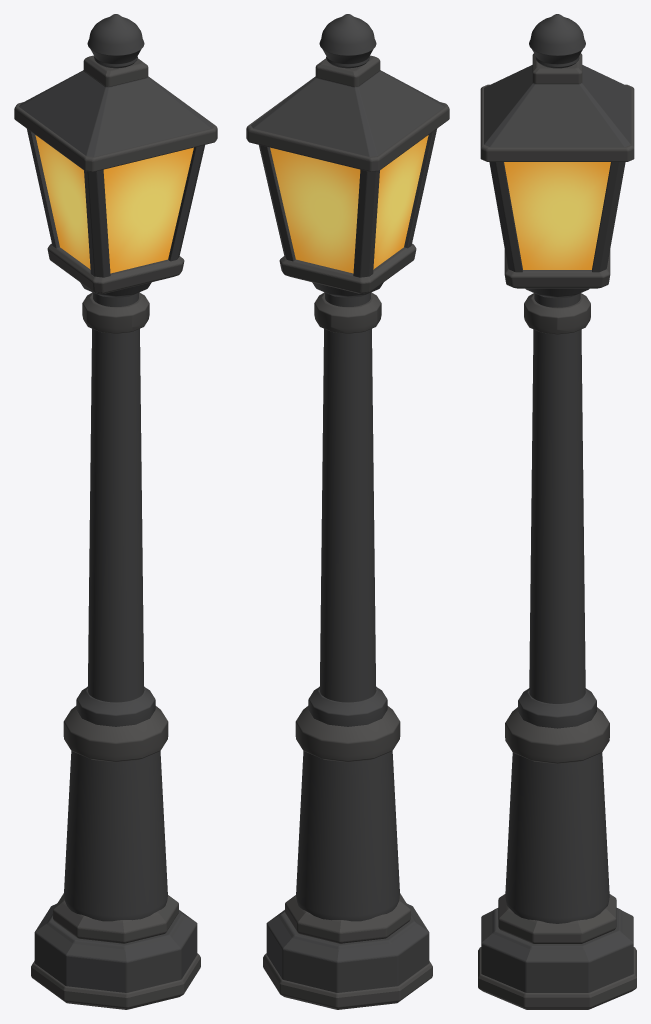
Rendered from streetlamp.glb.
3 views of the same model, side by side, from view 1: azimuth 30°, elevation 25°; view 2: azimuth 150°, elevation 25°; view 3: azimuth 270°, elevation 25° (orthographic).
Visible parts, largest first — view 1: Streetlamp; view 2: Streetlamp; view 3: Streetlamp.
Part boxes in pixels (x1,y1,x2,y2): Streetlamp: (14,14,217,1009); Streetlamp: (246,14,449,1009); Streetlamp: (478,14,636,1009).
Bounding box in the file's own units: 0.54 × 3.61 × 0.54.
Materials: 3 (1 with a texture image).
